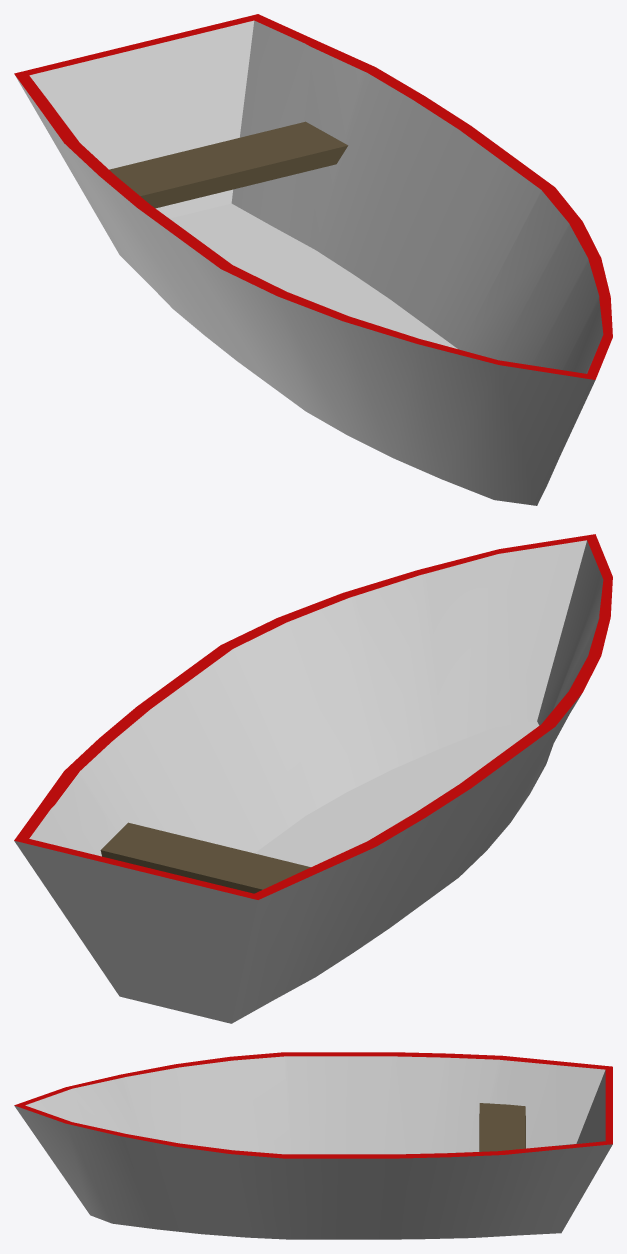
File: barque.fbx
3 renders of one model, top to bottom at view 1: azimuth 30°, elevation 25°; view 2: azimuth 150°, elevation 25°; view 3: azimuth 270°, elevation 25°, orthographic. The views are drawn at different scales.
Parts seen in each view (by area): view 1: polySurface2; view 2: polySurface2; view 3: polySurface2.
Boxes of the visible parts, <box> form: polySurface2: <box>14,14,612,505</box>; polySurface2: <box>14,534,612,1023</box>; polySurface2: <box>14,1052,612,1239</box>.
Bounding box in the file's own units: 8.16 × 3.93 × 19.4.
